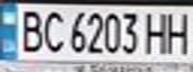0: (103, 9, 124, 55)
2: (84, 8, 106, 55)
3: (118, 9, 145, 55)
6: (66, 8, 87, 54)
B: (12, 6, 45, 54)
C: (39, 7, 66, 55)
H: (142, 8, 172, 55), (163, 8, 193, 55)
